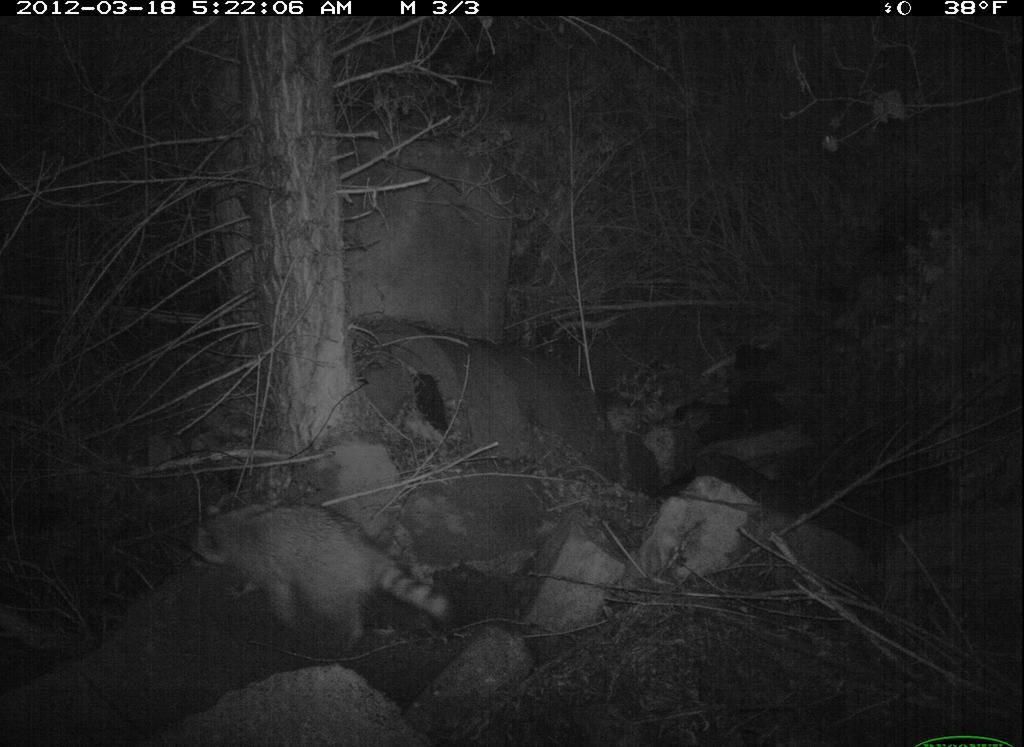raccoon: (185, 491, 463, 665)
